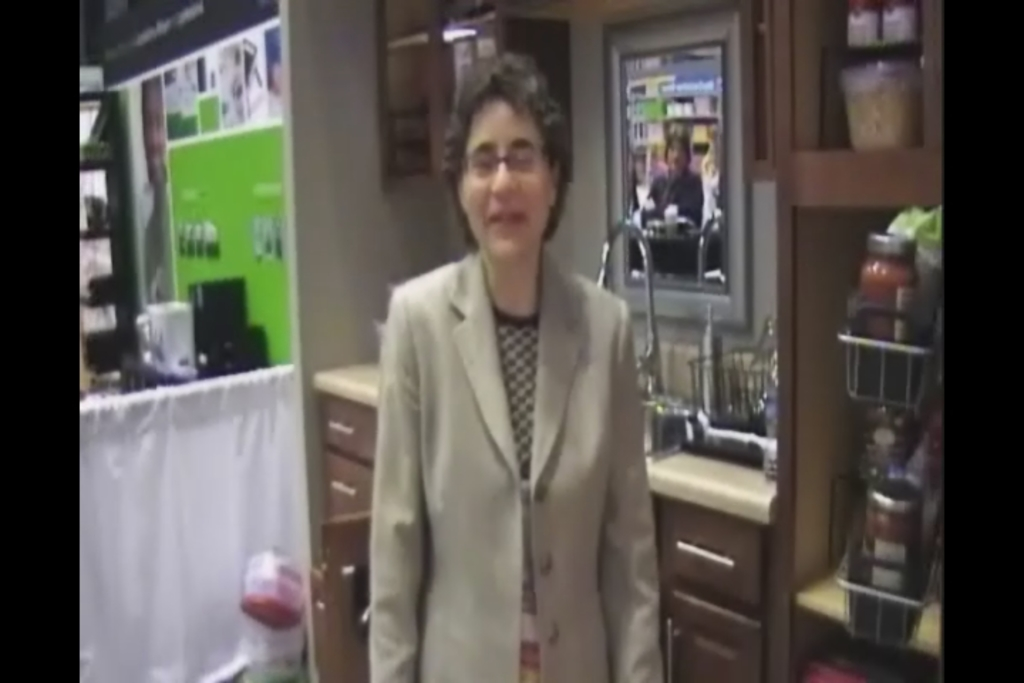Cabinetry: (316, 364, 384, 682), (658, 509, 764, 682)
